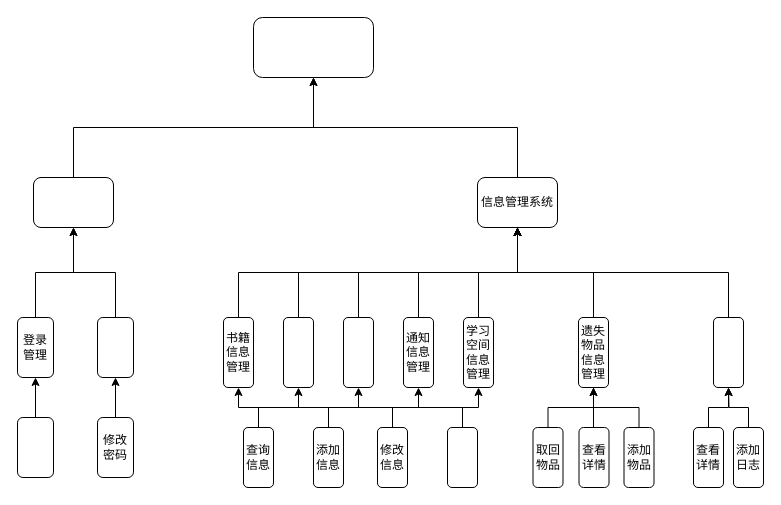
The diagram is 781 pixels wide and 505 high, and some of its shapes have lost their labels. The box of each missing label's shape, as (x1, y1, x2, y2) in pixels:
会员信息管理: (342, 316, 374, 388)
删除信息: (446, 426, 478, 488)
图书馆管理系统: (252, 16, 374, 78)
密码管理: (96, 316, 134, 378)
日志信息管理: (712, 316, 744, 388)
用户管理系统: (32, 176, 114, 228)
电脑信息管理: (282, 316, 314, 388)
身份验证: (16, 416, 54, 478)
